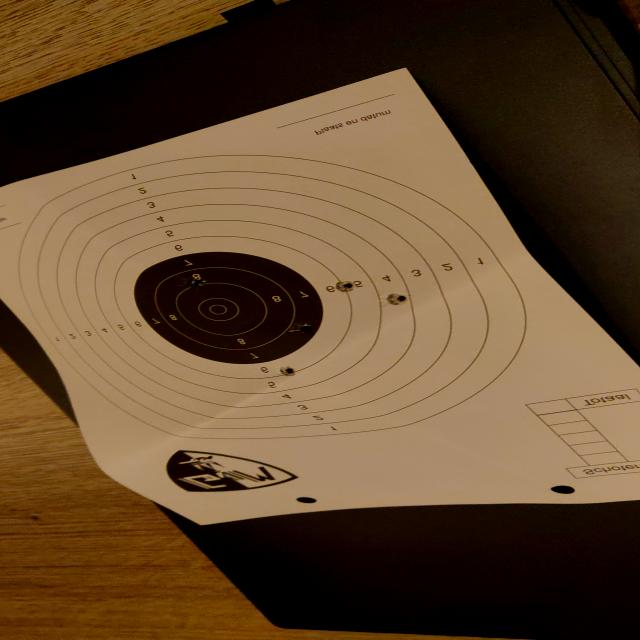4: (380, 292, 410, 306)
6: (333, 280, 357, 292), (276, 366, 298, 377)
7: (289, 323, 316, 335)
9: (180, 277, 208, 290)
Target: (15, 154, 530, 440)
black_contour: (134, 252, 325, 366)
